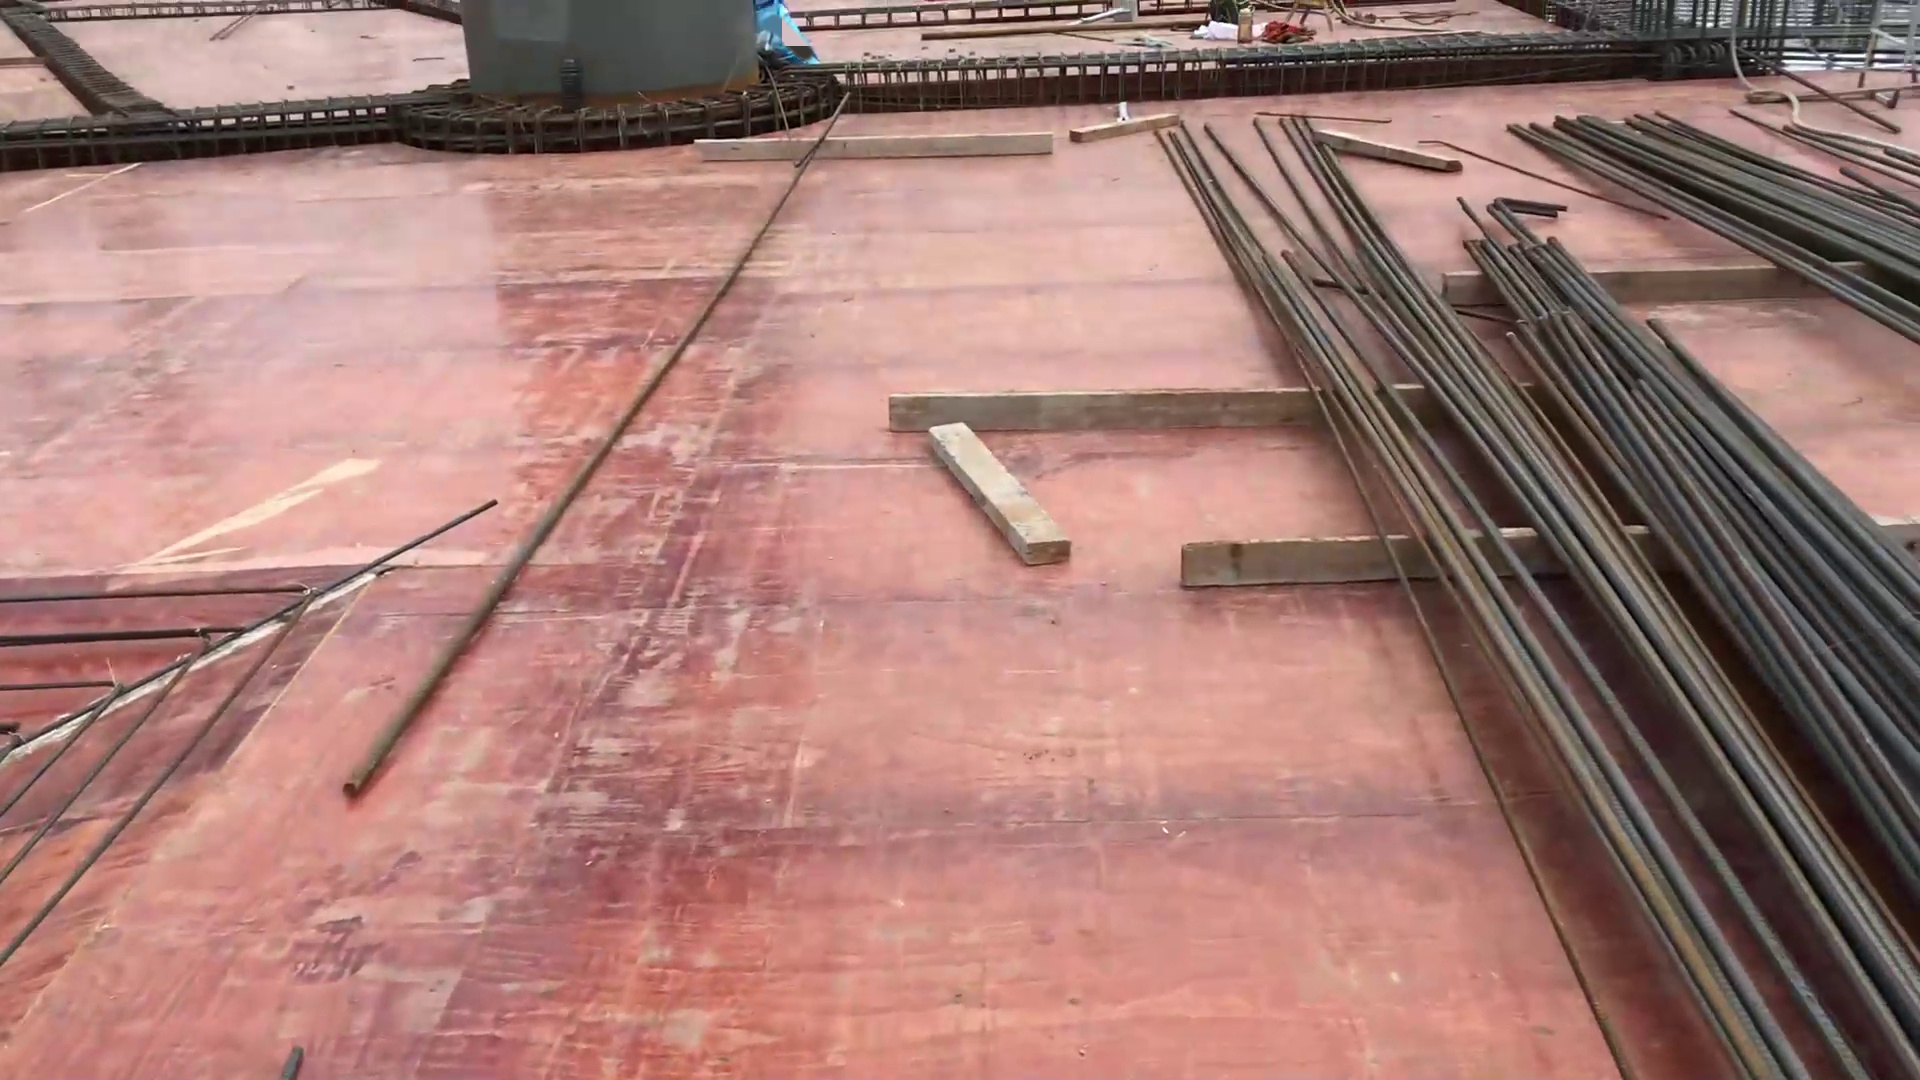rebar: (1178, 119, 1920, 1080)
